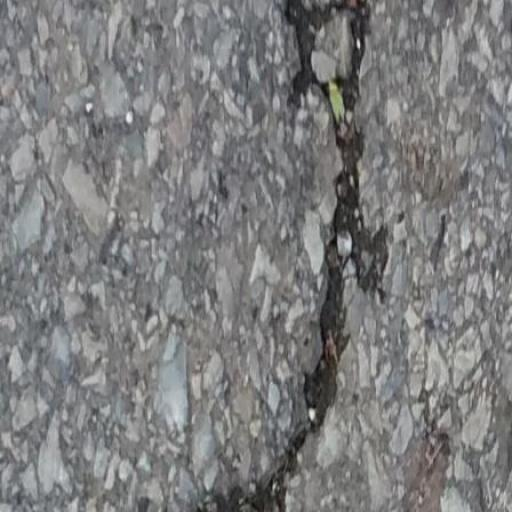spalling: (177, 6, 390, 510)
